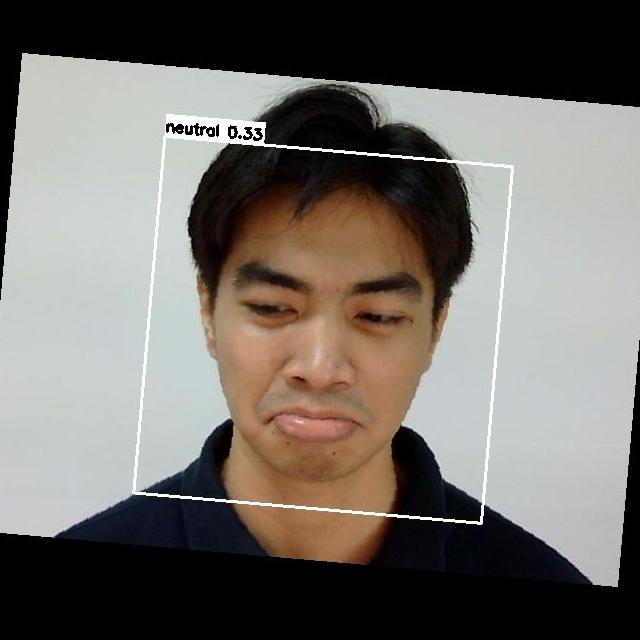Sad: (209, 239, 436, 467)
